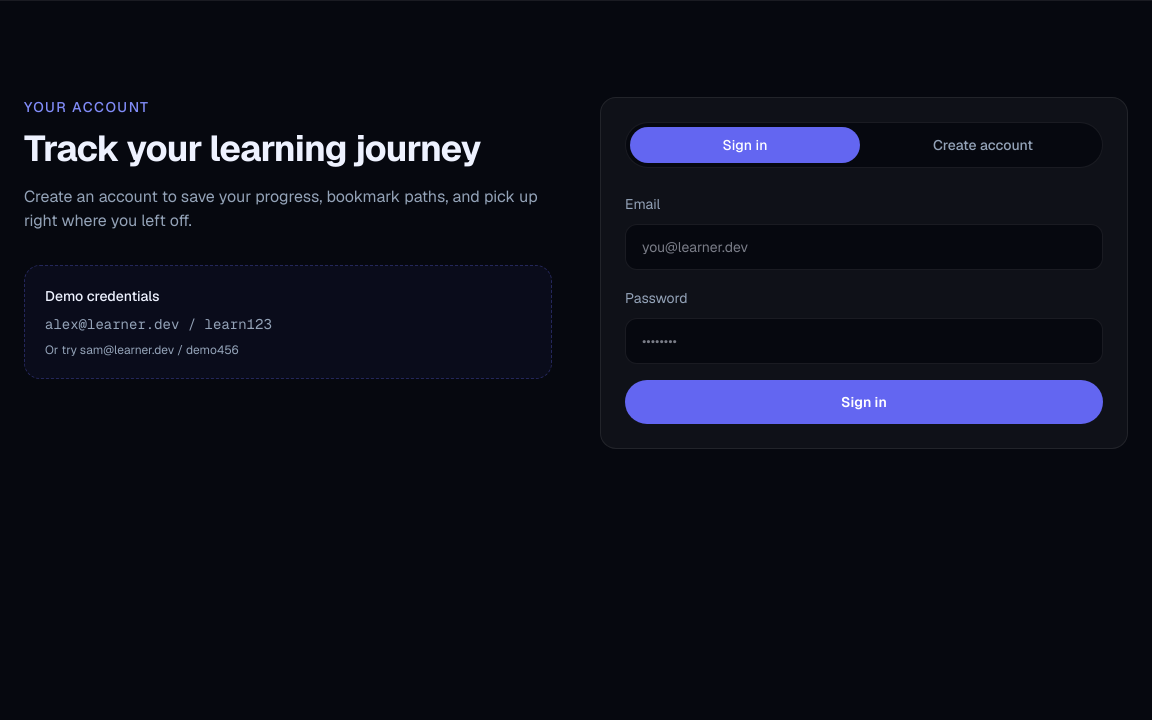
it: Account › creates a new account
Expected: the field labelled "Email" is shown, [625,224,1103,270]
Click the button "Create account" at coordinates (983, 145), box [868,127,1098,163]
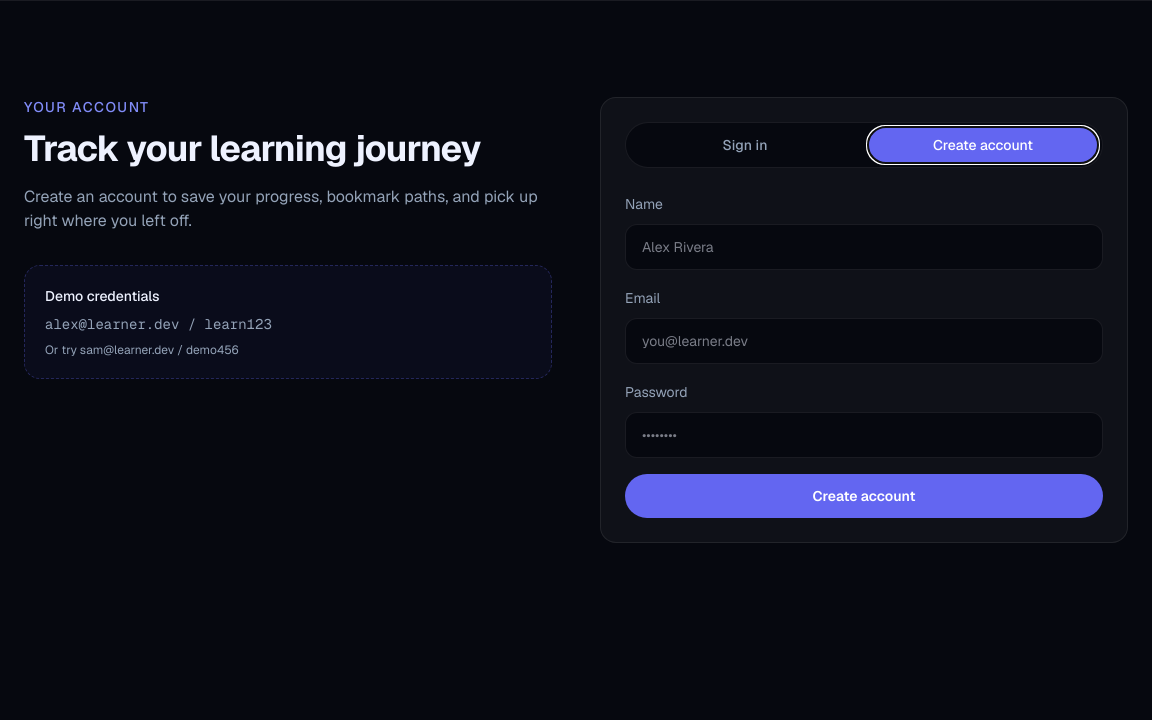
Type "Jordan Lee" into the field labelled "Name" at coordinates (864, 247), box [625,224,1103,270]
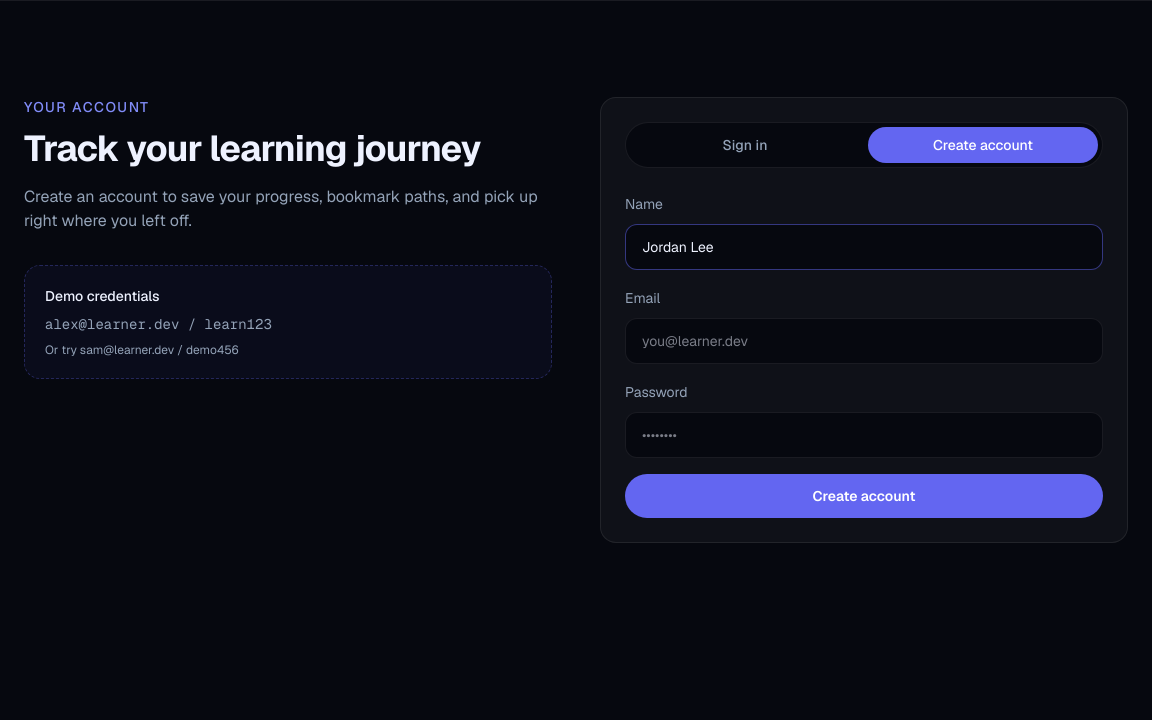
Type "jordan@example.com" into the field labelled "Email" at coordinates (864, 341), box [625,318,1103,364]
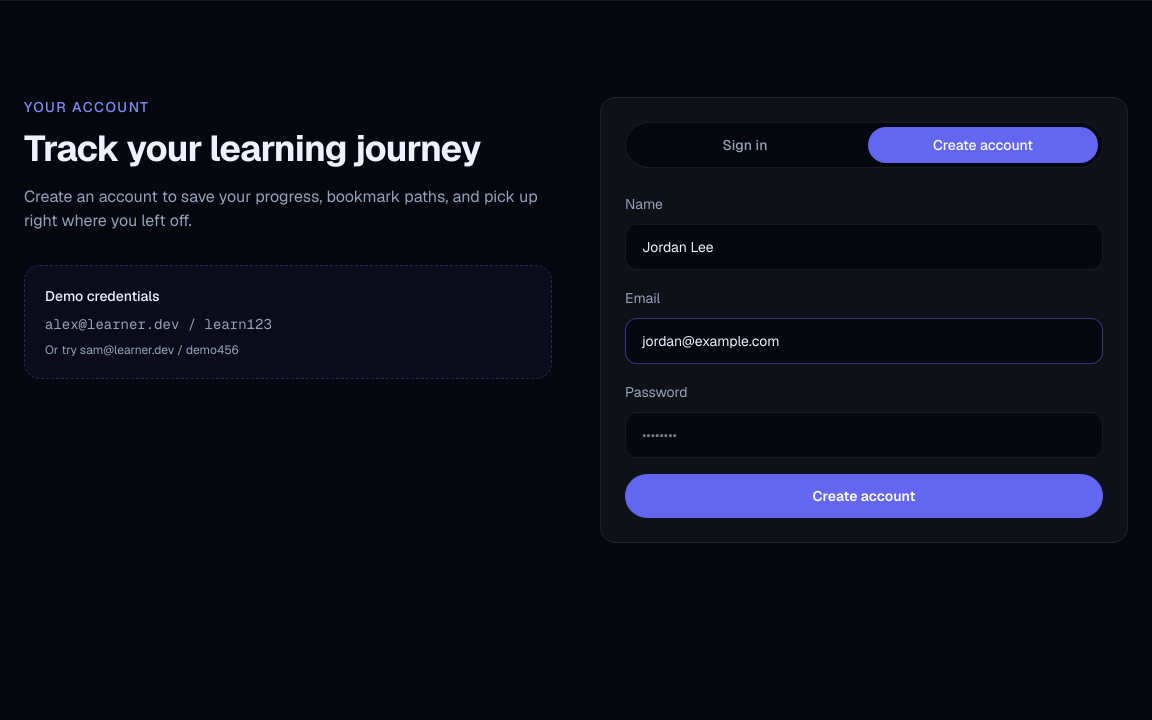
Type "secure123" into the password field labelled "Password" at coordinates (864, 435), box [625,412,1103,458]
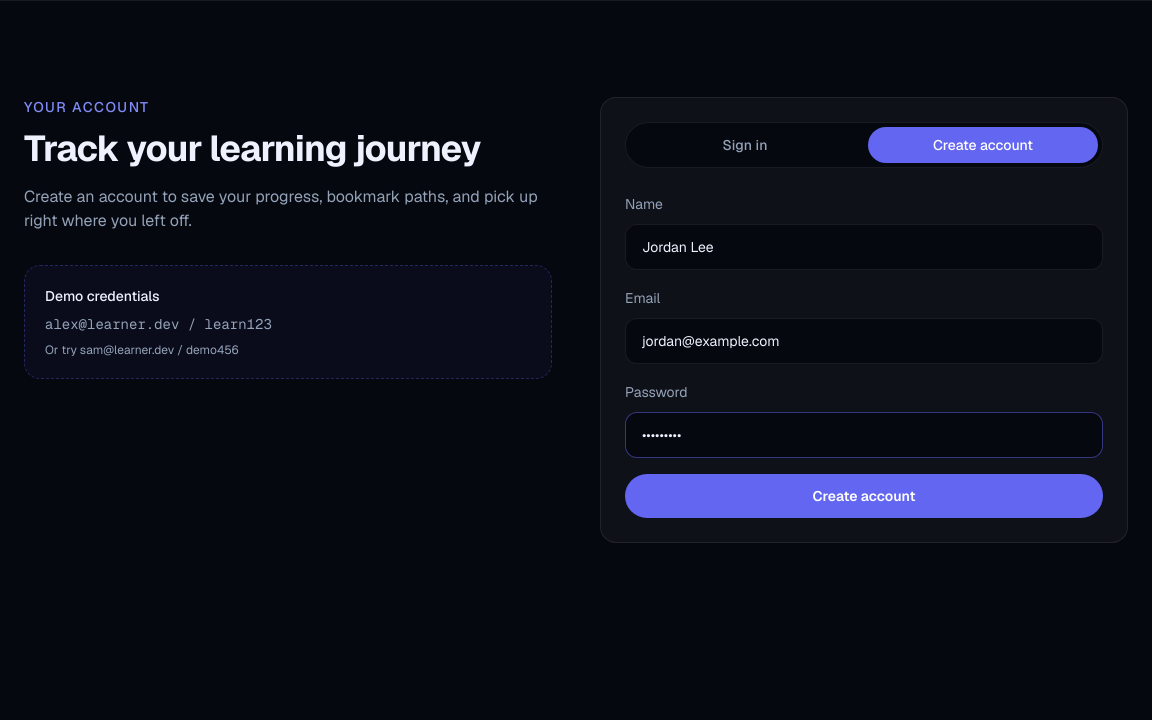
Click the button "Create account" below "Password" at coordinates (864, 496), box [625,474,1103,518]
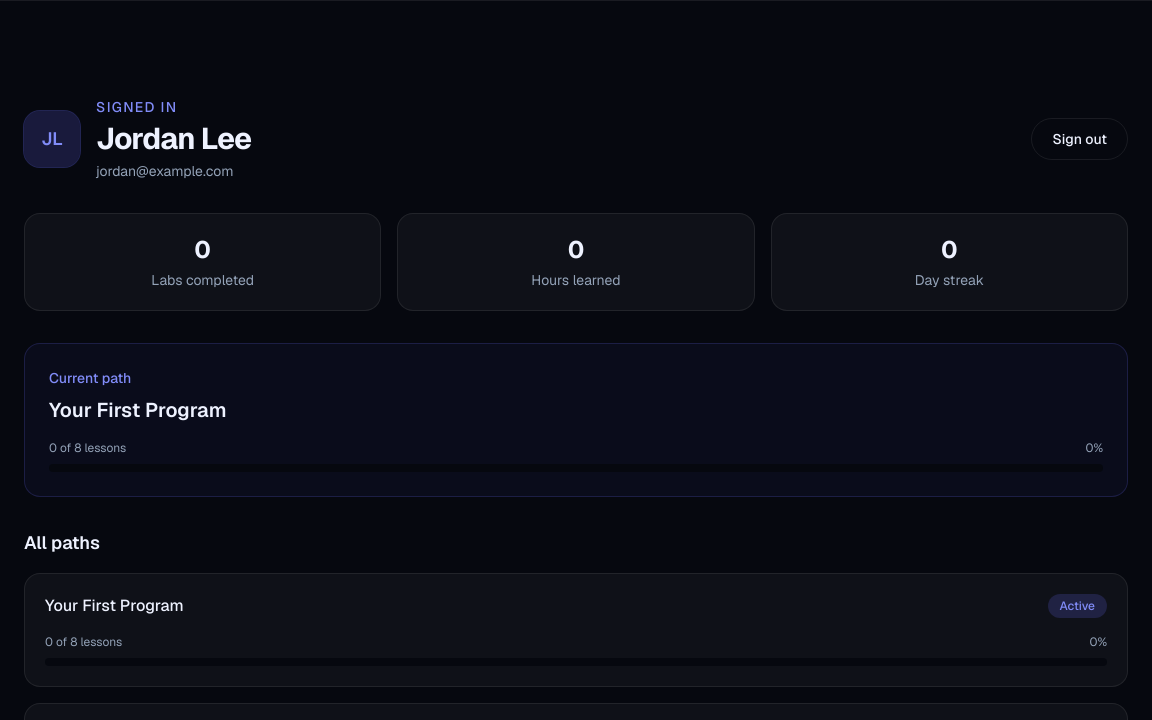
Result: the heading "Jordan Lee" is shown at [96,121,251,157]
